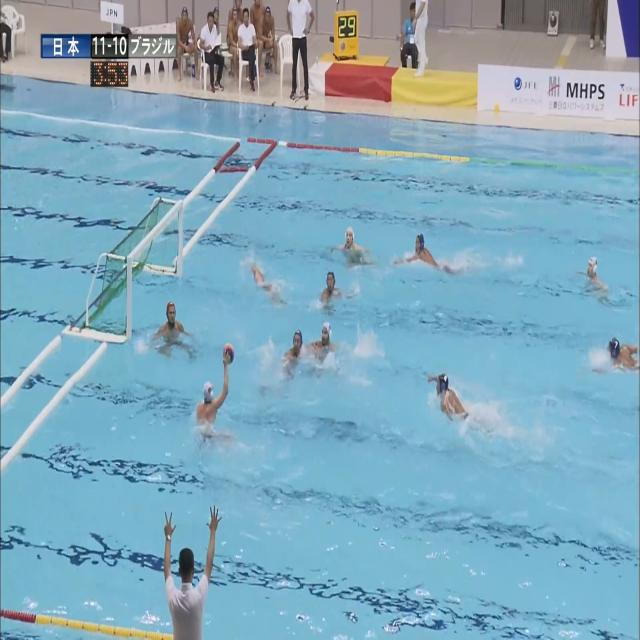ball: (223, 343, 234, 364)
